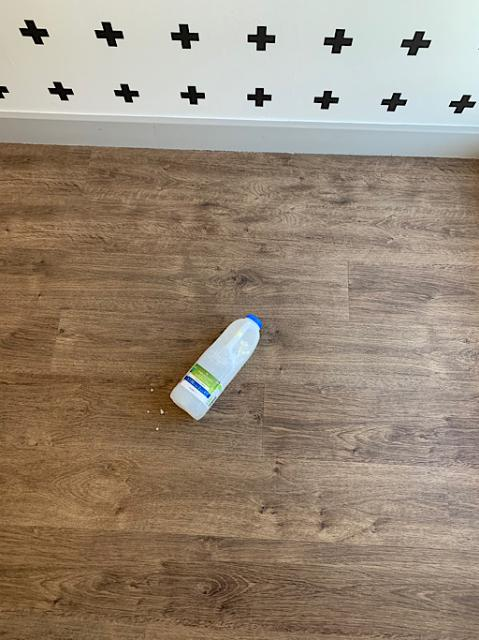plastic: (170, 314, 260, 418)
